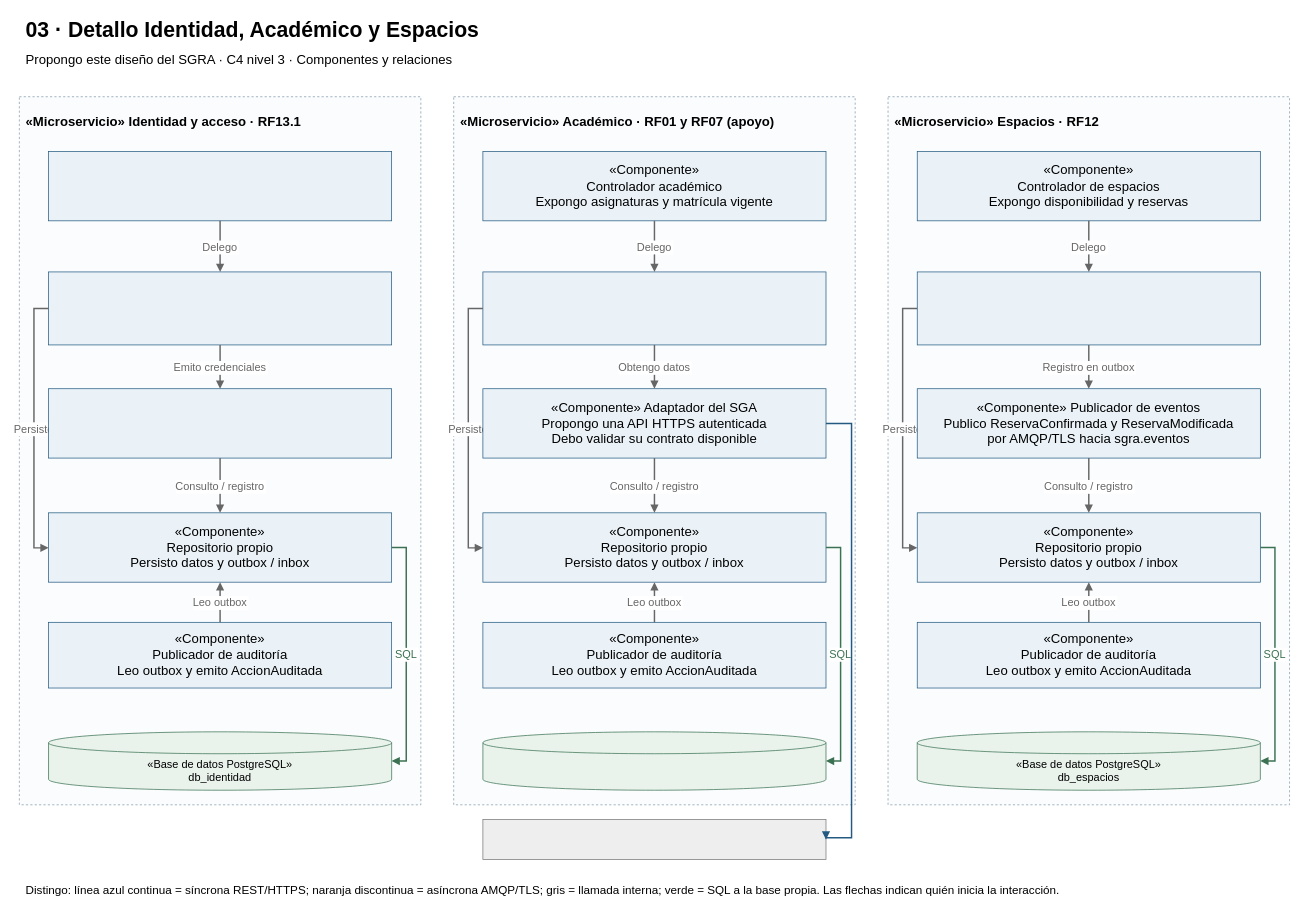
The diagram is 1302 pixels wide and 917 high, and some of its shapes have lost their labels. Each missing label, with the centre of its shape:
"«Base de datos PostgreSQL» db_academico" goes at (654,760).
"«Componente» Controlador de autenticación Atiendo login, refresh y logout" goes at (220,186).
"«Componente» Emisor de tokens Firmo tokens para el filtro del Gateway" goes at (220,423).
"«Componente» Gestor de cuentas y roles Administro usuarios, roles y permisos" goes at (220,308).
"«Componente» Gestor de reservas Valido disponibilidad y evito solapamientos" goes at (1088,308).
"«Componente» Sincronizador con el SGA Actualizo mi copia académica" goes at (654,308).
"«Sistema externo» SGA · Propongo REST/HTTPS" goes at (654,839).
